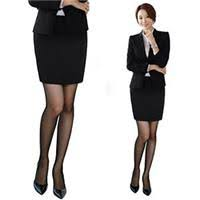F_tailored skirt: (33, 12, 97, 88), (127, 72, 168, 126)
S_business casual jacket: (124, 28, 176, 94)
